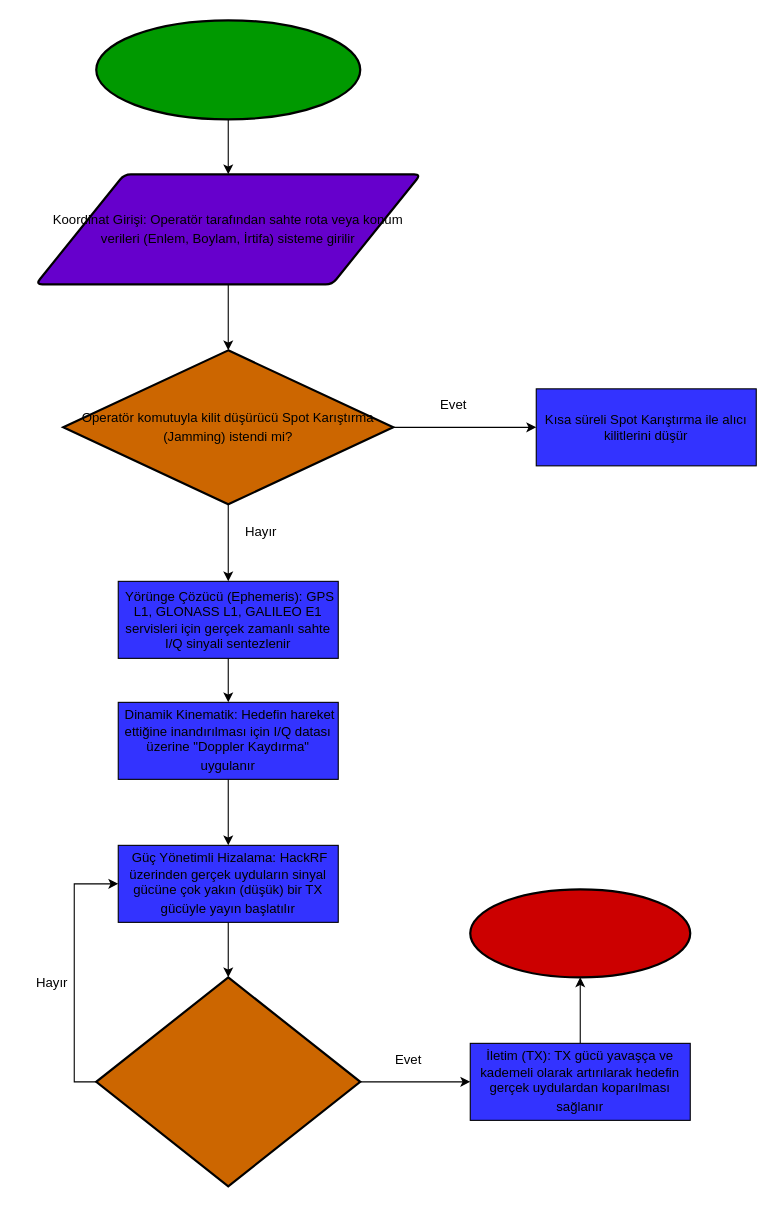
This 776x1206 diagram has some shape labels left out. The shapes that lost their labels are listed below. From the top down, each one's box as (x1, y1, x2, y2) in pixels, then its label:
(95, 19, 361, 120): target_type == GNSS_RECEIVER koşulu sağlandı
(469, 888, 691, 978): Bitiş: Hedef tamamen sahte yayına esir edildi, aldatma döngüsü sürüyor
(95, 976, 361, 1187): Hedef alıcının takip döngüleri (tracking loops) sahte sinyale kilitlendi mi?
